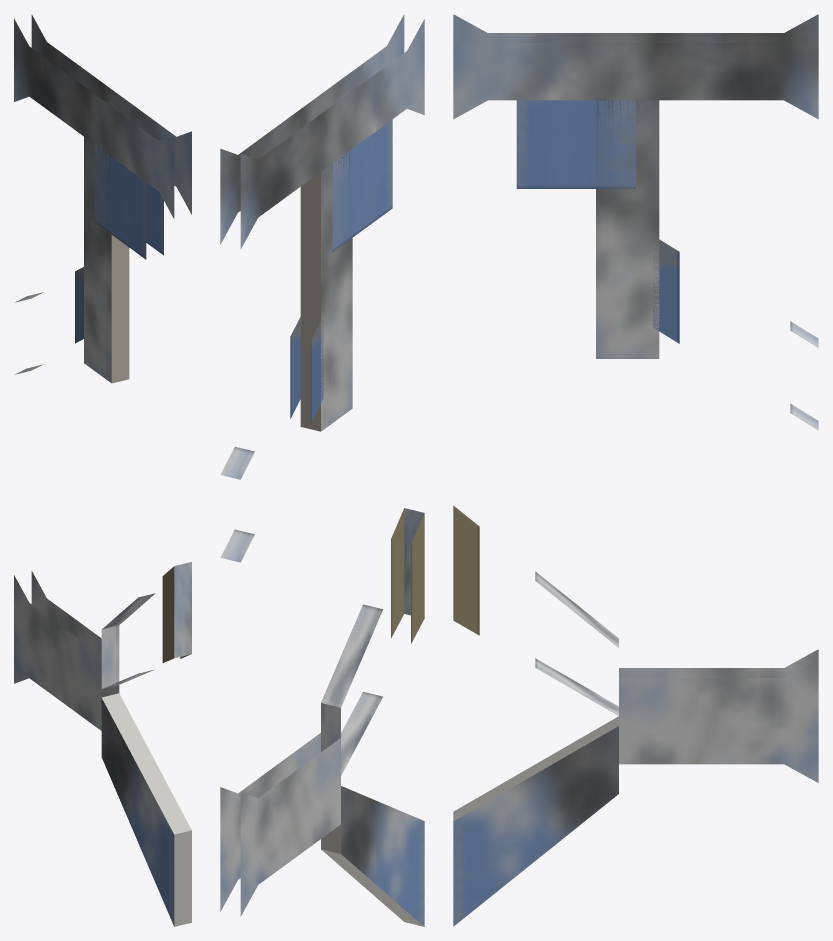
File: section-2.obj
3 renders of one model, left to right at view 1: azimuth 30°, elevation 25°; view 2: azimuth 150°, elevation 25°; view 3: azimuth 270°, elevation 25°, orthographic. The views are drawn at different scales.
Bounding box in the file's own units: 0.022 × 0.943 × 0.346.
